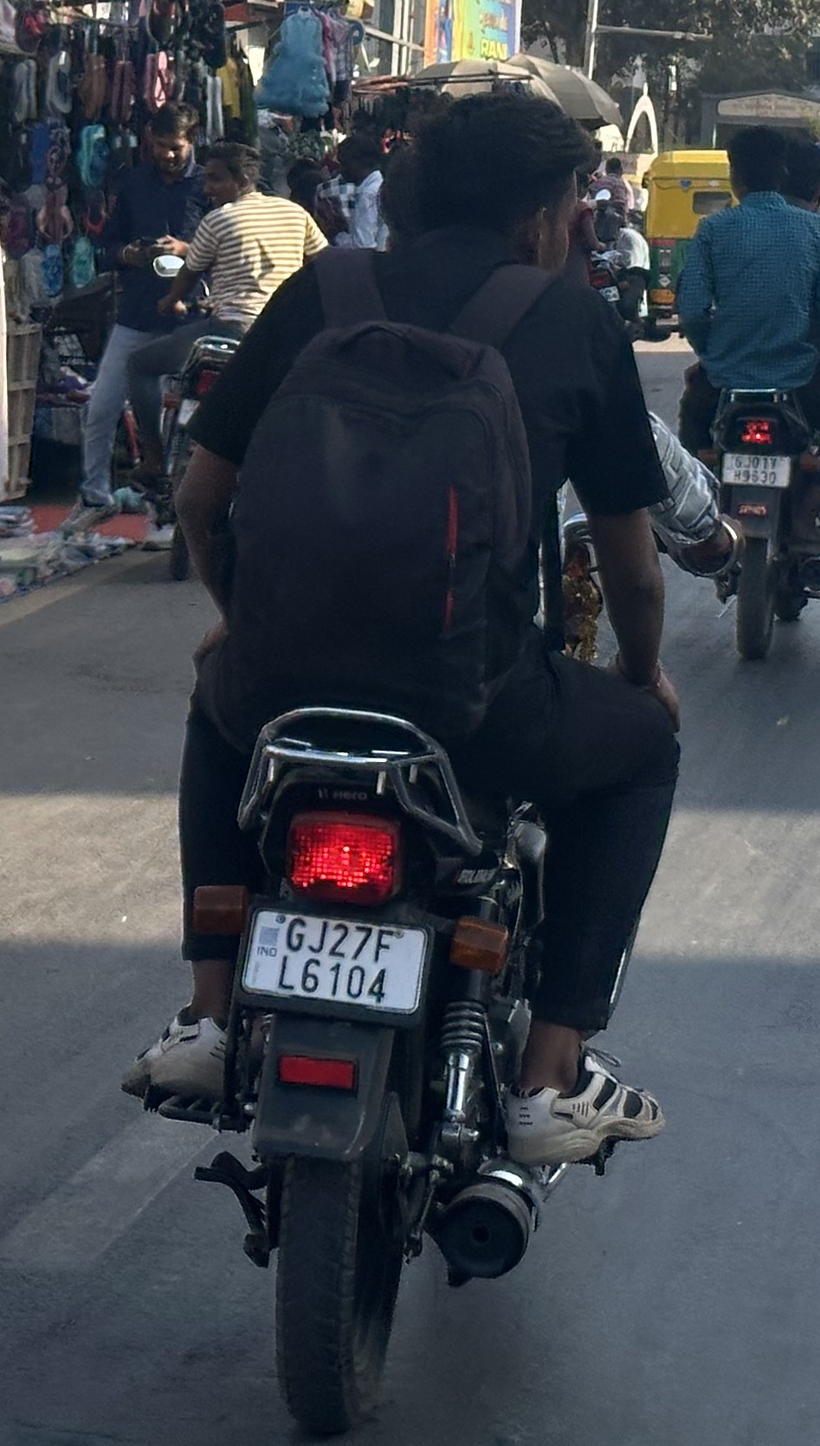BikeWithRider: (111, 72, 691, 1440), (117, 119, 320, 596), (666, 122, 820, 668)
NoHelmet: (429, 91, 598, 269), (380, 136, 535, 274), (167, 122, 277, 216), (760, 117, 820, 209), (725, 126, 788, 196)
